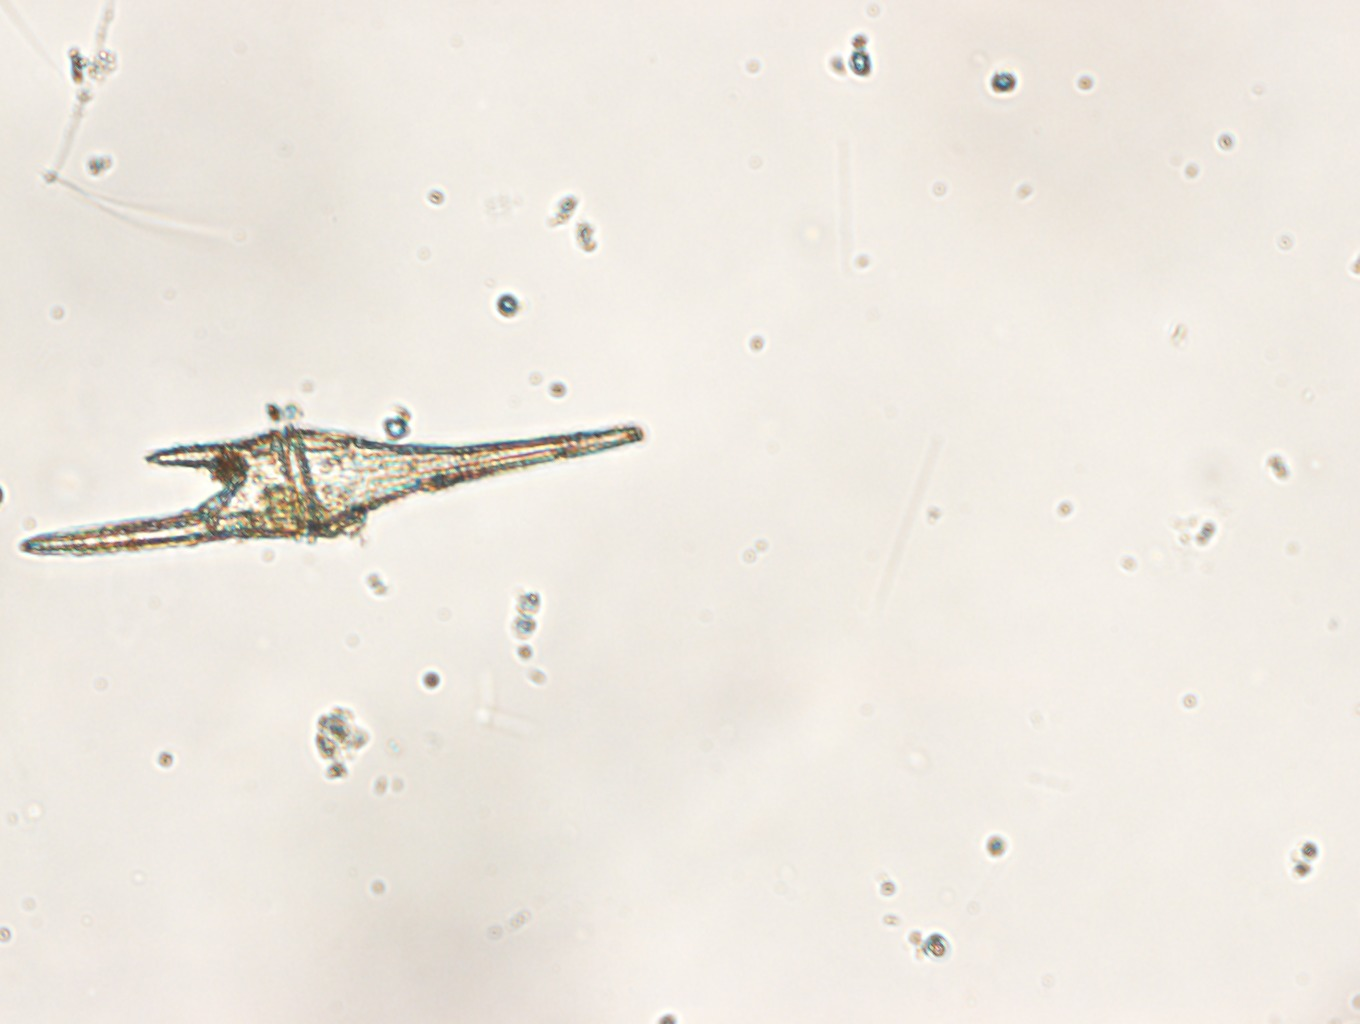ceratium furca: (18, 423, 644, 556)
